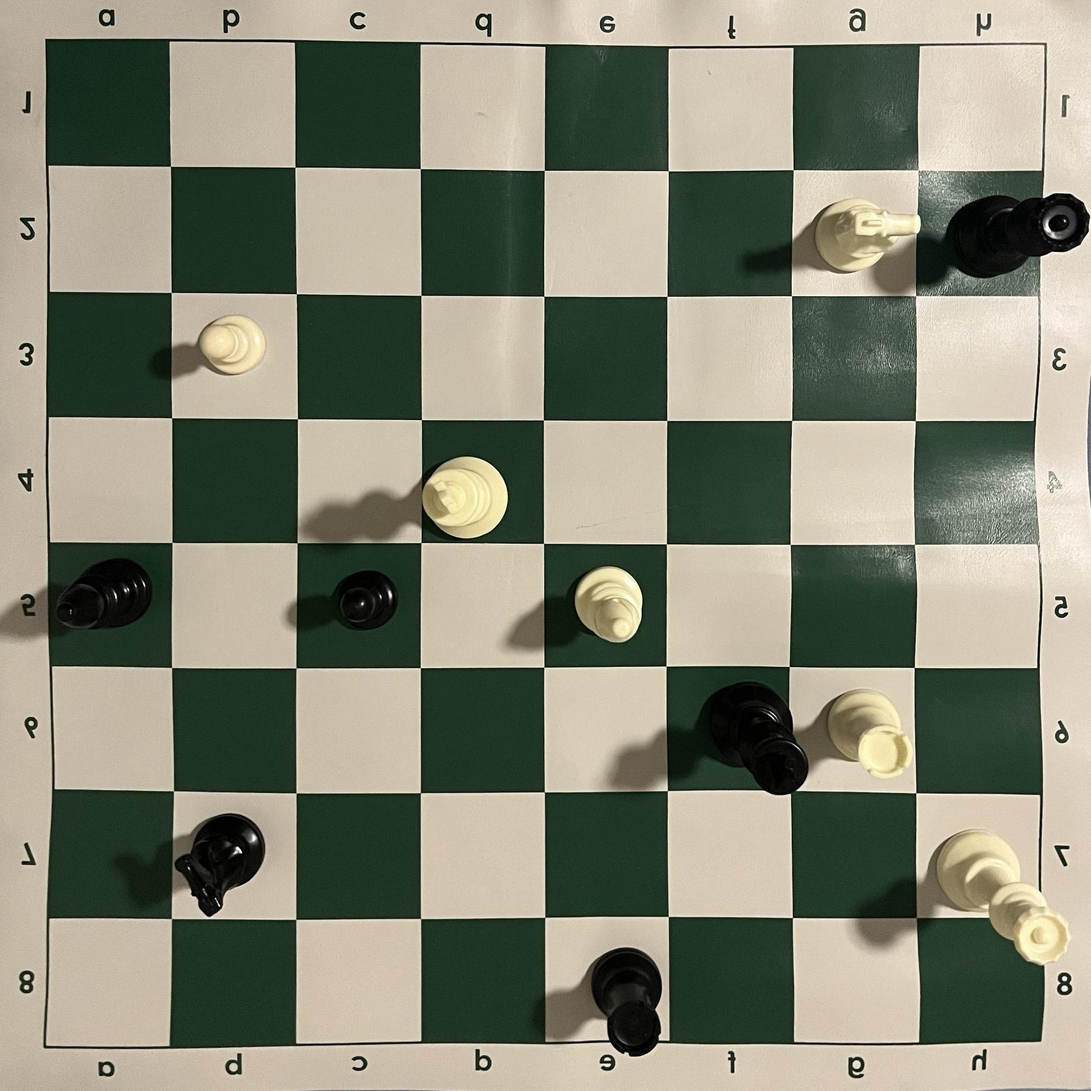black_bishop: (55, 558, 153, 630)
black_king: (702, 680, 810, 796)
black_knight: (174, 812, 266, 918)
black_pawn: (330, 569, 399, 631)
black_queen: (948, 192, 1090, 278)
black_rook: (589, 946, 663, 1057)
white_bishop: (574, 566, 644, 643)
white_king: (421, 455, 508, 541)
white_knight: (812, 197, 923, 274)
white_pawn: (197, 313, 266, 375)
white_queen: (936, 828, 1071, 968)
white_rook: (826, 687, 914, 780)
